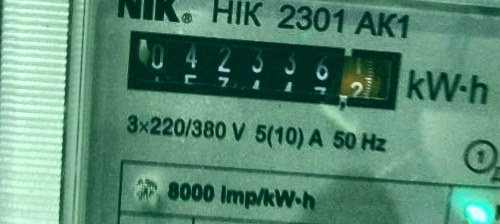0: (147, 41, 165, 71)
1: (350, 53, 364, 76)
2: (215, 43, 233, 74), (346, 79, 364, 98)
3: (279, 46, 297, 77), (247, 45, 264, 74)
4: (181, 39, 200, 70)
6: (312, 51, 332, 82)
screen: (112, 16, 414, 122)
